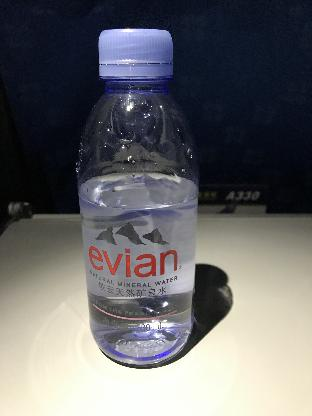Plastic Bottle: (76, 17, 208, 373)
